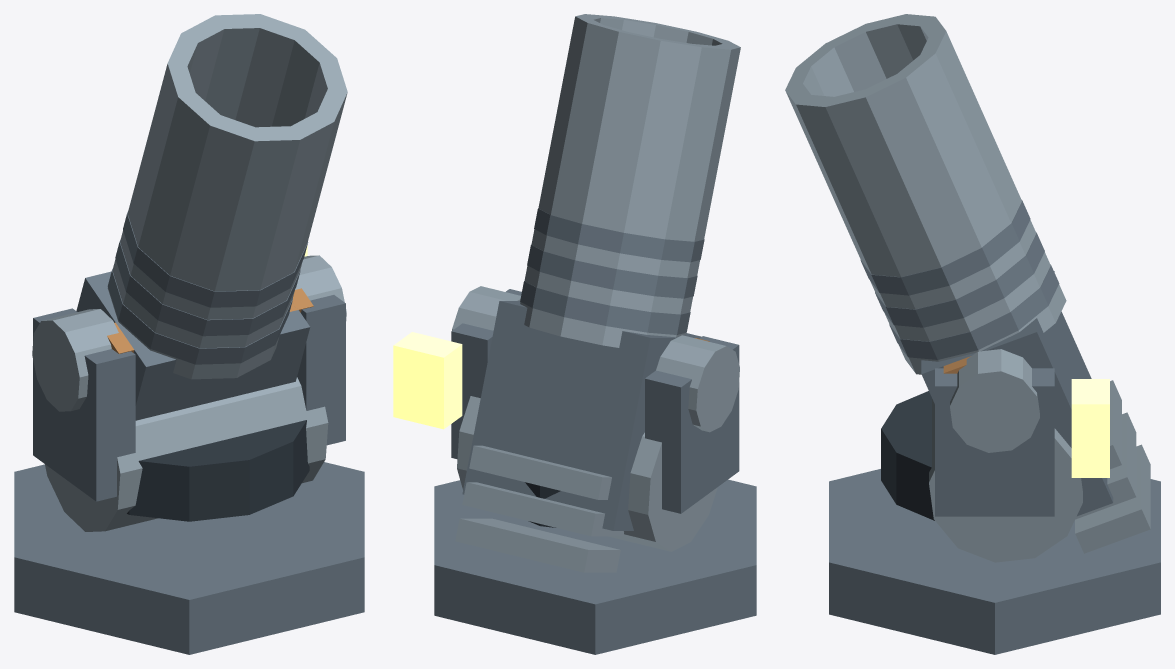
The model's file is mortar_t2.glb.
3 views of the same model, side by side, from view 1: azimuth 30°, elevation 25°; view 2: azimuth 150°, elevation 25°; view 3: azimuth 270°, elevation 25° (orthographic). The views are drawn at different scales.
Parts seen in each view (by area): view 1: Mortar tube wall, Ground plinth, Cradle (×2), Bearing, Autoloader drum, Pressure jacket (×3), Breech, Elevation motor (×2); view 2: Mortar tube wall, Ground plinth, Breech, Capacitor (×3), Cradle (×2), Pressure jacket (×3), Elevation motor (×2), Autoloader drum, Range radar; view 3: Mortar tube wall, Ground plinth, Cradle, Pressure jacket (×3), Elevation motor, Autoloader drum, Capacitor (×3), Breech, Bearing, Range radar.
Part boxes in pixels (box(x1,y1,x2,y2)): Mortar tube wall: box(107, 14, 347, 379); Ground plinth: box(14, 462, 364, 654); Cradle (×2): box(33, 295, 345, 501); Bearing: box(127, 420, 309, 521); Autoloader drum: box(45, 377, 328, 531); Pressure jacket (×3): box(107, 212, 308, 364); Breech: box(76, 271, 310, 420); Elevation motor (×2): box(32, 255, 346, 411); Mortar tube wall: box(520, 14, 740, 347); Ground plinth: box(434, 479, 756, 654); Breech: box(462, 301, 701, 530); Capacitor (×3): box(455, 445, 623, 572); Cradle (×2): box(451, 289, 739, 513); Pressure jacket (×3): box(520, 208, 704, 334); Elevation motor (×2): box(452, 286, 739, 432); Autoloader drum: box(457, 396, 717, 551); Range radar: box(393, 332, 462, 429); Mortar tube wall: box(785, 14, 1066, 374); Ground plinth: box(829, 469, 1160, 654); Cradle: box(935, 368, 1054, 516); Pressure jacket (×3): box(860, 200, 1059, 359); Elevation motor: box(950, 349, 1039, 452); Autoloader drum: box(929, 398, 1082, 562); Capacitor (×3): box(1075, 380, 1150, 553); Breech: box(921, 311, 1113, 516); Bearing: box(881, 391, 934, 520); Range radar: box(1071, 379, 1109, 477).
Bounding box in the file's own units: 1.6 × 2.5 × 1.57.
